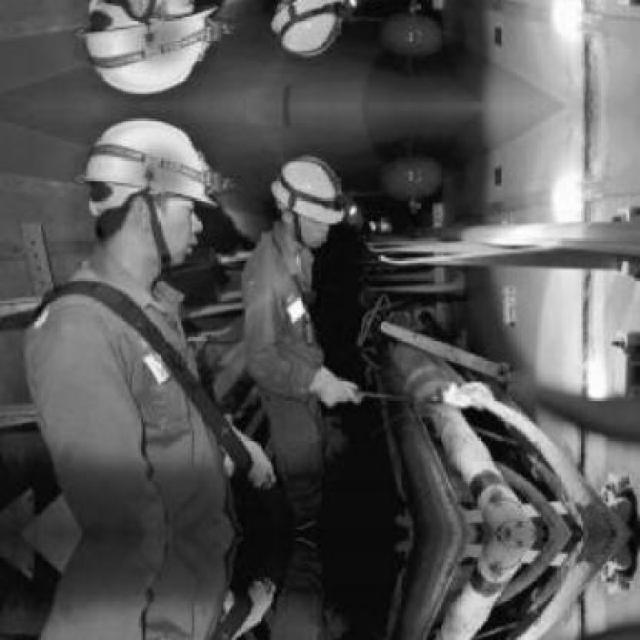helmet: (80, 110, 205, 268), (78, 0, 204, 103), (274, 155, 349, 251), (272, 0, 349, 58)
